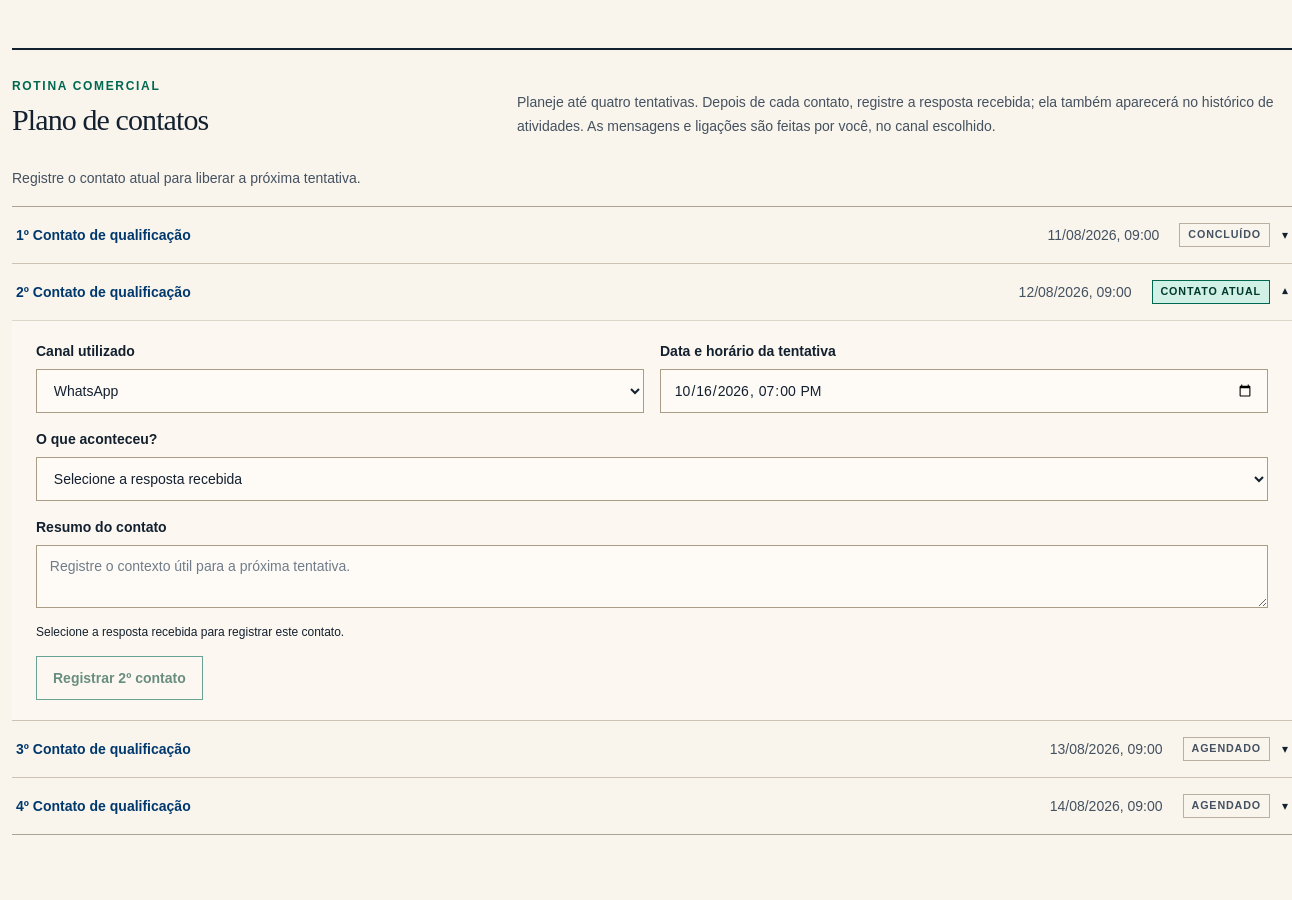
Test case: qualification cadence › shows four expandable rows and records how the lead reacted
Check: the text "1º Contato de qualificação" is shown 4 times, box [16,227,191,243]; [16,284,191,300]; [16,741,191,757]; [16,798,191,814]
Check: the text "Contato atual" is shown, box [1152,280,1270,304]
Select "Ligação" in the dropdown labelled "Canal utilizado" at (340, 391), box [36,369,644,413]
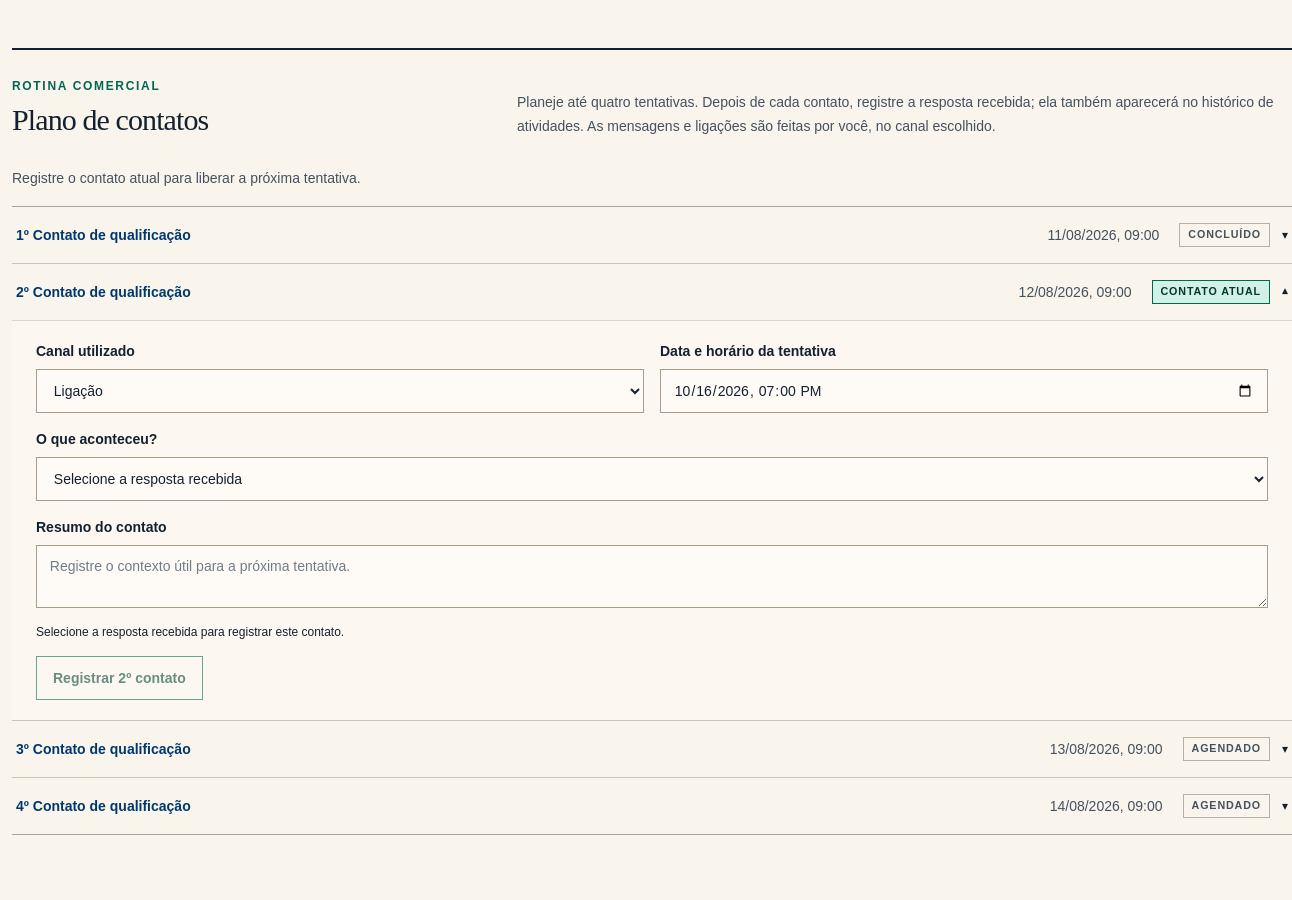
Select "Pediu para falar mais tarde" in the dropdown labelled "O que aconteceu?" at (652, 479), box [36,457,1268,501]
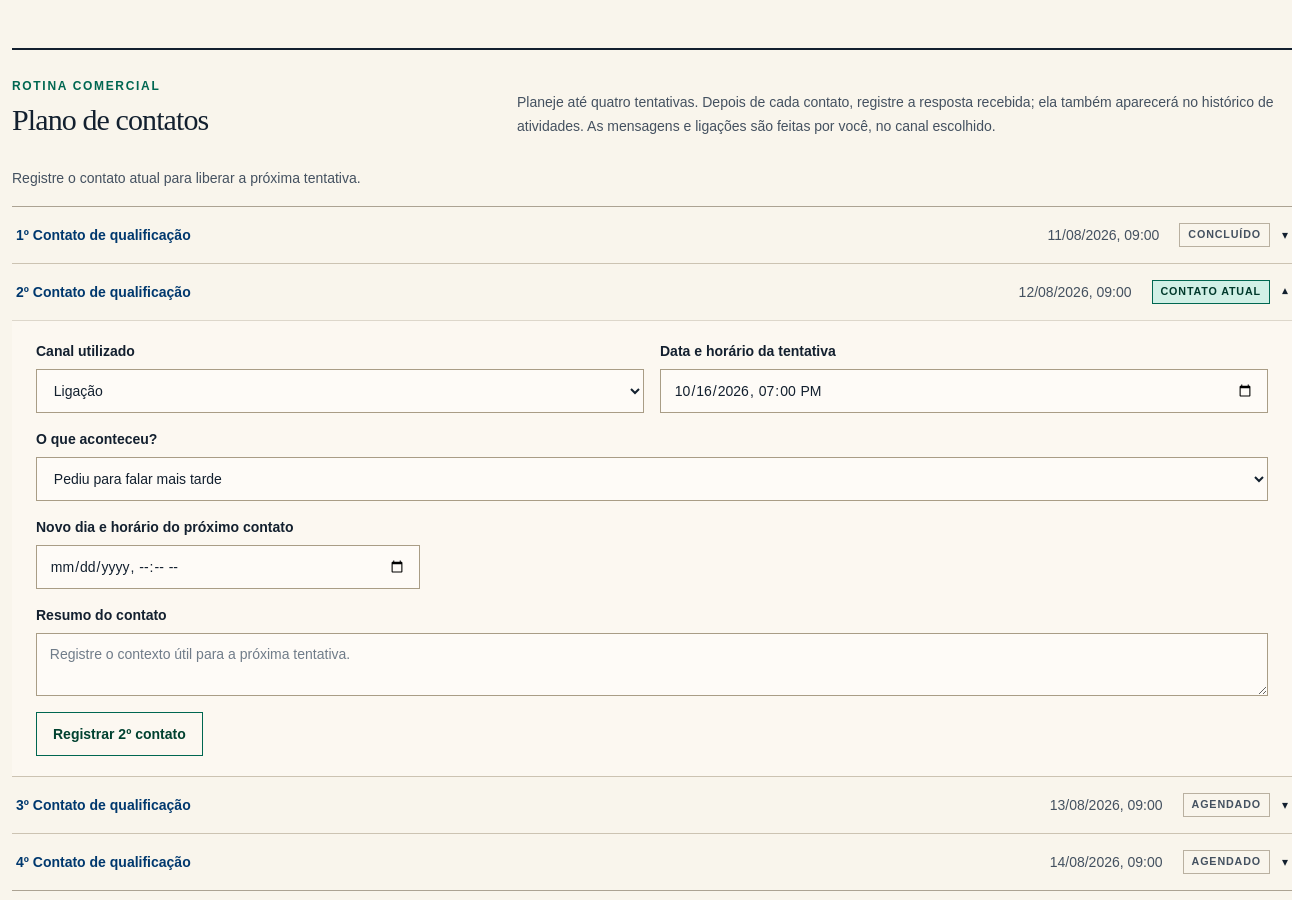
Check: the field labelled "Novo dia e horário do próximo contato" is shown, box [36,545,420,589]
Replace the text in the field labelled "Data e horário da tentativa" with "2026-08-14T15:00" at (964, 391), box [660,369,1268,413]
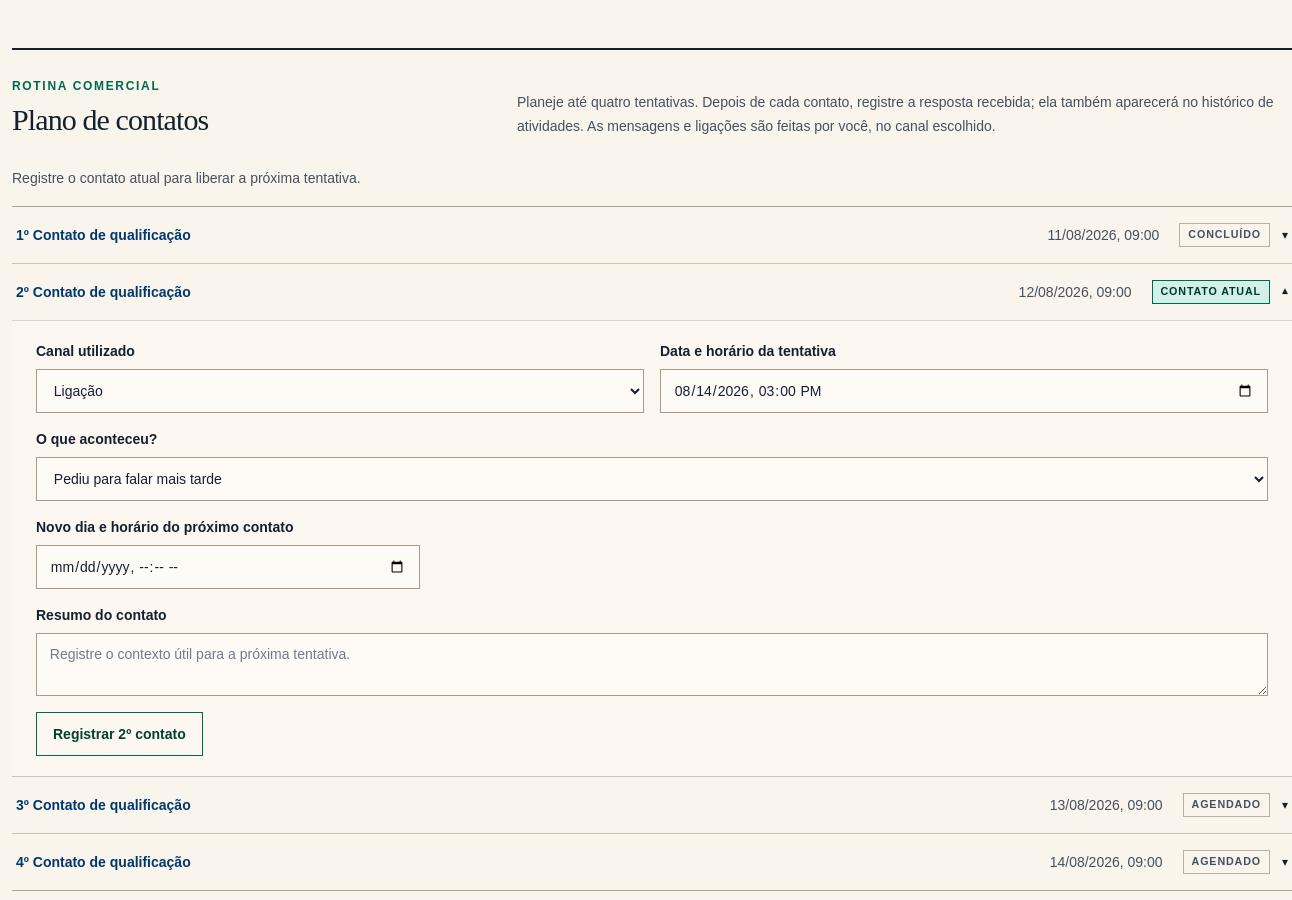
Type "2026-08-28T12:00" into the field labelled "Novo dia e horário do próximo contato" at (228, 567), box [36,545,420,589]
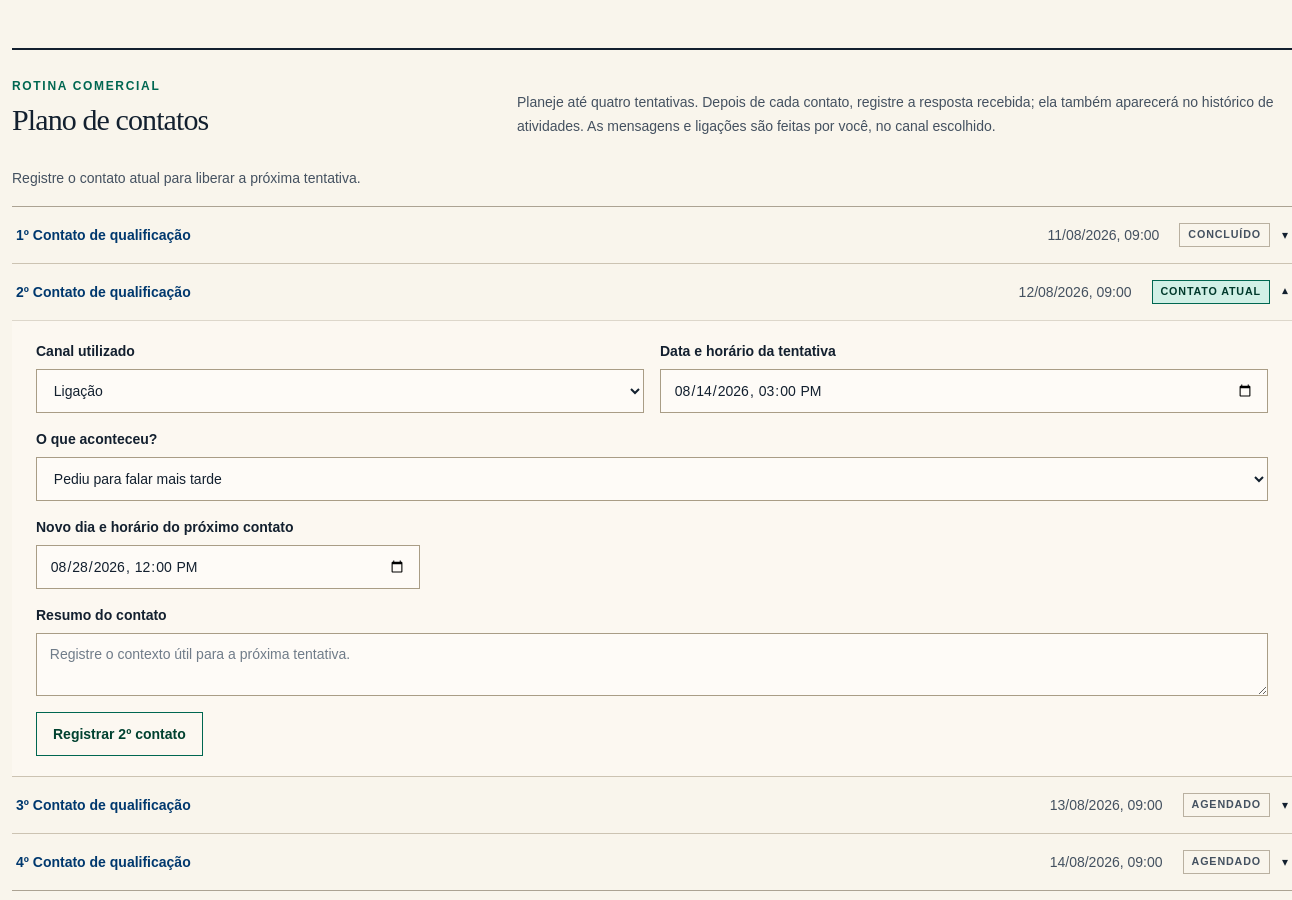
Type "A pessoa pediu retorno após o fechamento mensal." into the text box labelled "Resumo do contato" at (652, 664), box [36,633,1268,696]
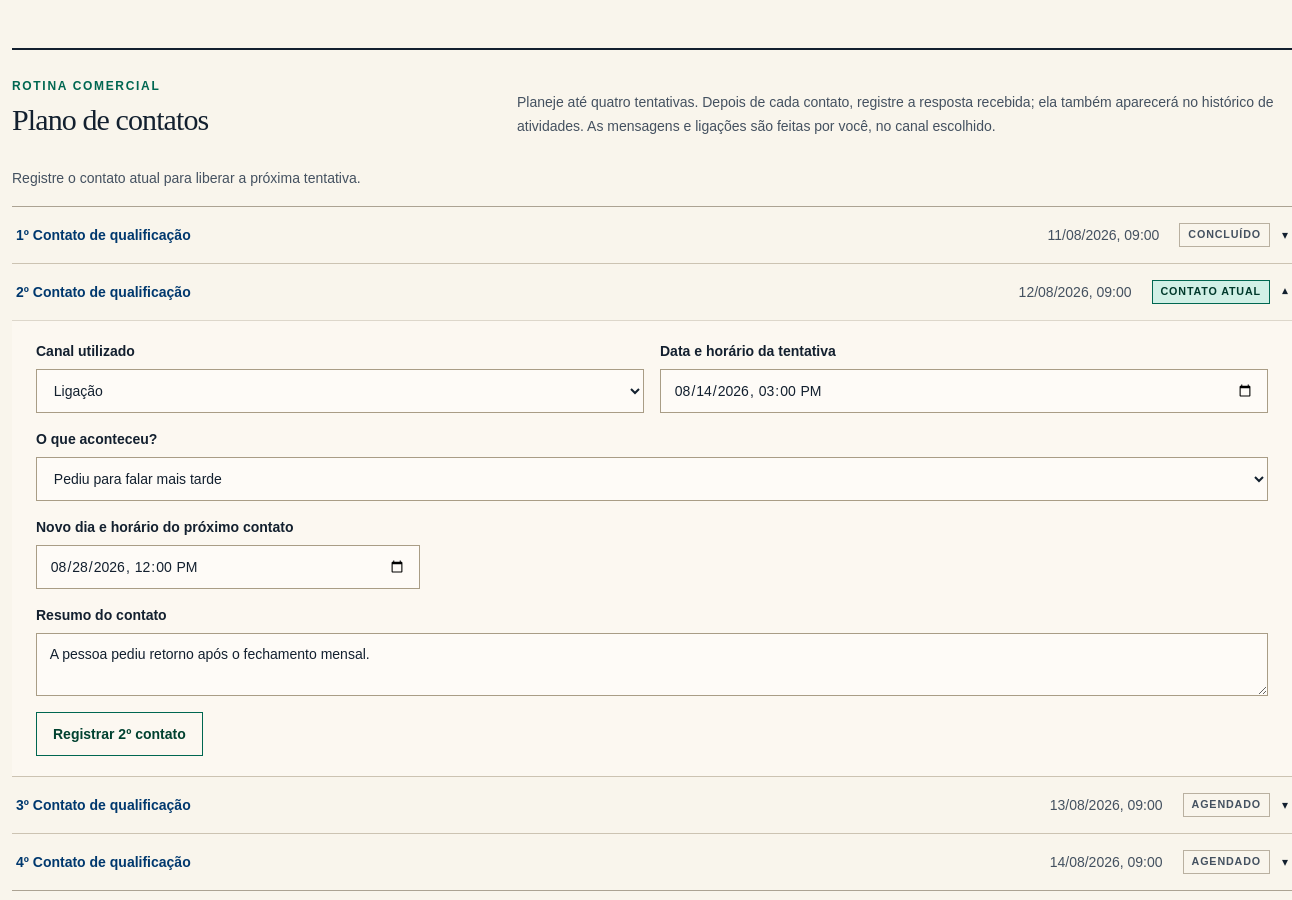
Click the button "Registrar 2º contato" at (119, 734), box [36,712,203,756]
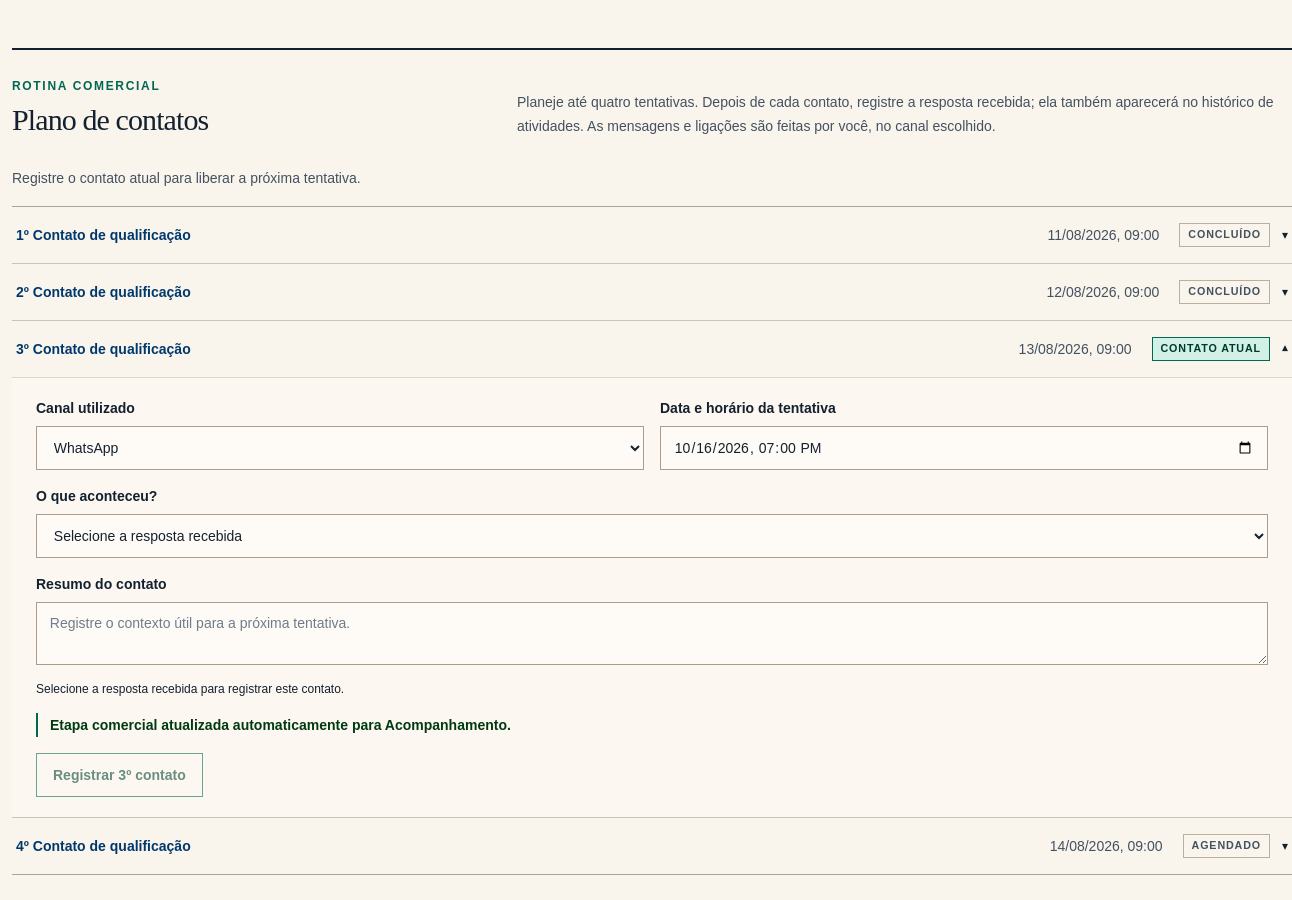
Check: the text "3º Contato de qualificação" is shown, box [16,341,191,357]
Check: the message named "Resultado do acompanhamento" reads "Etapa comercial atualizada automaticamente para Acompanhamento.", box [50,717,511,733]
